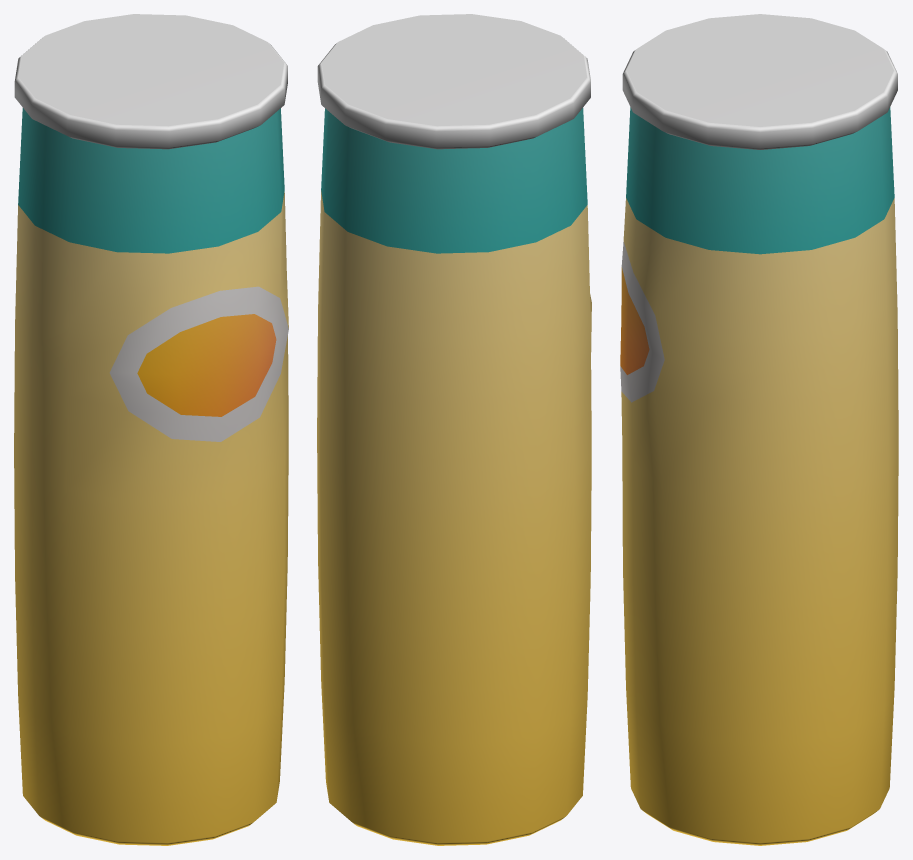
File: chips_014.fbx
3 renders of one model, left to right at view 1: azimuth 30°, elevation 25°; view 2: azimuth 150°, elevation 25°; view 3: azimuth 270°, elevation 25°, orthographic.
Visible parts, largest first — view 1: chips_014; view 2: chips_014; view 3: chips_014.
Boxes of the visible parts, bbox=[...] form: chips_014: bbox=[14, 14, 288, 845]; chips_014: bbox=[317, 14, 591, 845]; chips_014: bbox=[620, 14, 898, 845].
Size of the model in its own units: 8.19 by 8.24 by 23.63.
